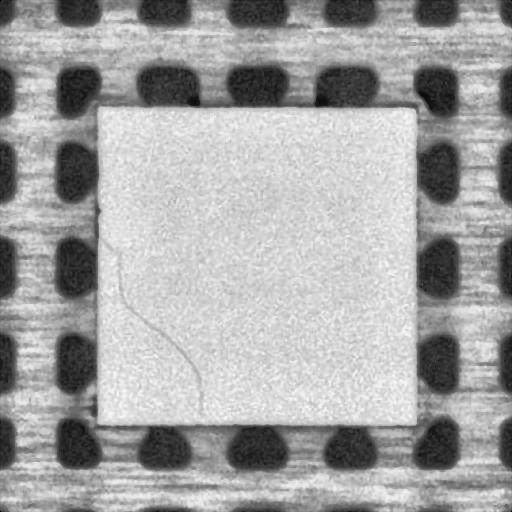DIE_CRACK: (97, 234, 221, 414)
